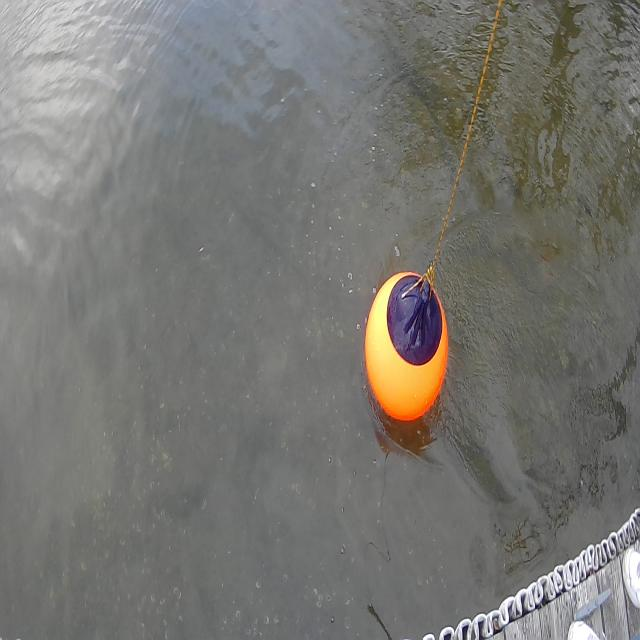Buoy: (361, 262, 453, 433)
